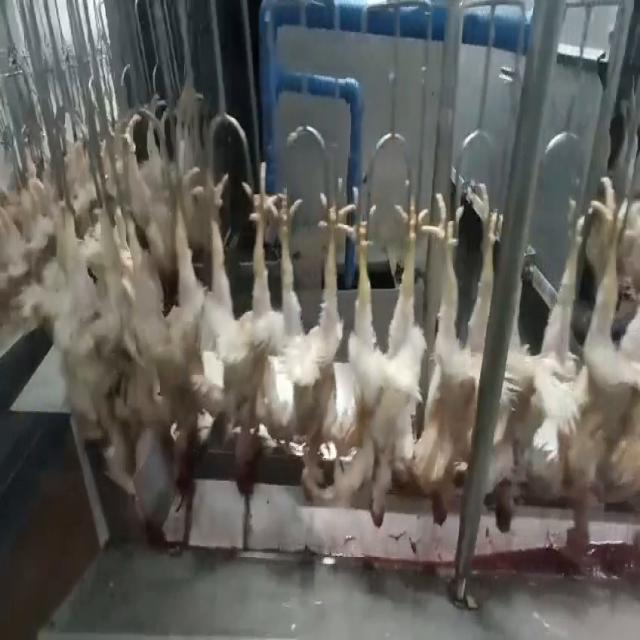chicken: (83, 169, 190, 524), (490, 194, 591, 539), (338, 178, 436, 527), (186, 154, 278, 496), (416, 169, 503, 523), (270, 164, 359, 500), (560, 172, 636, 560)
